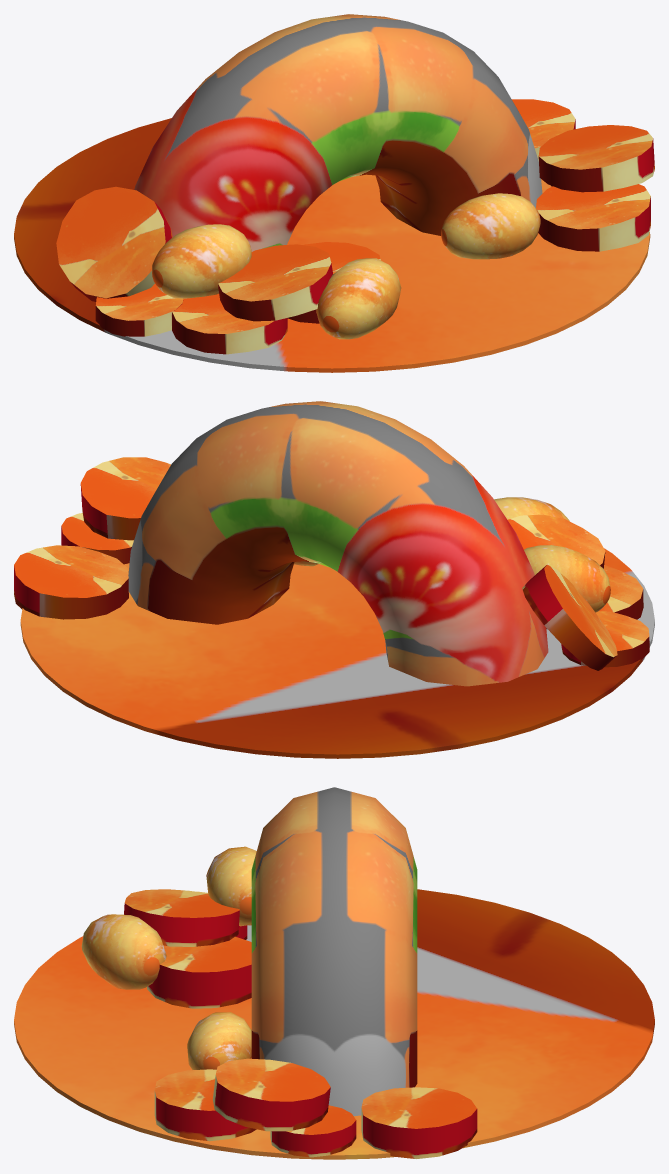
File: Lab_10_rainbow low.fbx
3 renders of one model, top to bottom at view 1: azimuth 30°, elevation 25°; view 2: azimuth 150°, elevation 25°; view 3: azimuth 270°, elevation 25°, orthographic.
Parts seen in each view (by area): view 1: Torus.001, Circle.009, Circle.027, Circle.029, Circle.026, Circle.023, Sphere.006, Sphere.008, Sphere.007, Circle.011, Circle.024, Circle.021 (+1 smaller); view 2: Torus.001, Circle.009, Circle.021, Circle.029, Circle.027, Sphere.006, Circle.026, Circle.024, Circle.028, Circle.011, Sphere.007; view 3: Circle.009, Torus.001, Circle.029, Circle.021, Circle.025, Circle.026, Sphere.007, Circle.023, Sphere.008, Circle.028, Sphere.006.
Boxes of the visible parts, x1,y1,x2,y2 form: Torus.001: (134,14,542,251); Circle.009: (14,118,650,372); Circle.027: (56,186,172,301); Circle.029: (538,125,654,192); Circle.026: (218,244,332,321); Circle.023: (536,184,650,251); Sphere.006: (152,224,251,298); Sphere.008: (441,193,540,259); Sphere.007: (316,258,401,339); Circle.011: (172,294,287,354); Circle.024: (95,283,183,336); Circle.021: (512,99,575,161); Torus.001: (128,401,548,686); Circle.009: (20,548,654,758); Circle.021: (14,545,128,619); Circle.029: (80,457,170,540); Circle.027: (522,564,617,670); Sphere.006: (524,545,610,612); Circle.026: (507,514,605,568); Circle.024: (561,611,649,667); Circle.028: (61,513,133,564); Circle.011: (546,565,643,629); Sphere.007: (494,497,569,521); Circle.009: (14,889,654,1159); Torus.001: (251,787,417,1116); Circle.029: (212,1058,330,1131); Circle.021: (361,1087,477,1158); Circle.025: (147,936,251,1008); Circle.026: (124,889,239,946); Sphere.007: (81,914,166,989); Circle.023: (154,1069,256,1141); Sphere.008: (187,1012,251,1069); Circle.028: (270,1105,356,1157); Sphere.006: (206,846,256,926).
Size of the model in its own units: 6 by 2.22 by 5.9.
